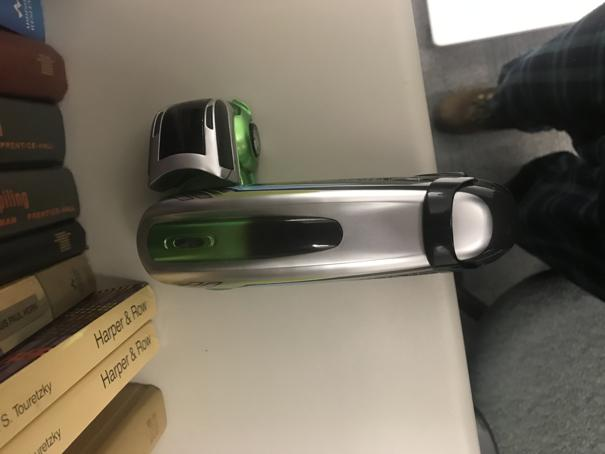Freewheel: (136, 97, 519, 291)
